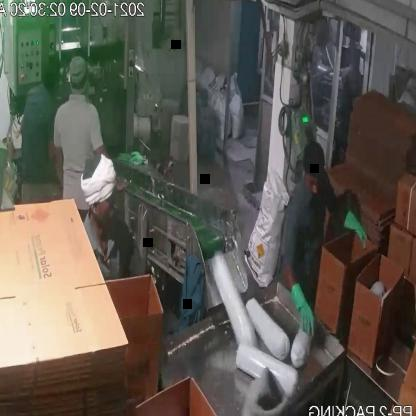glove: (288, 272, 314, 342), (339, 207, 373, 253)
